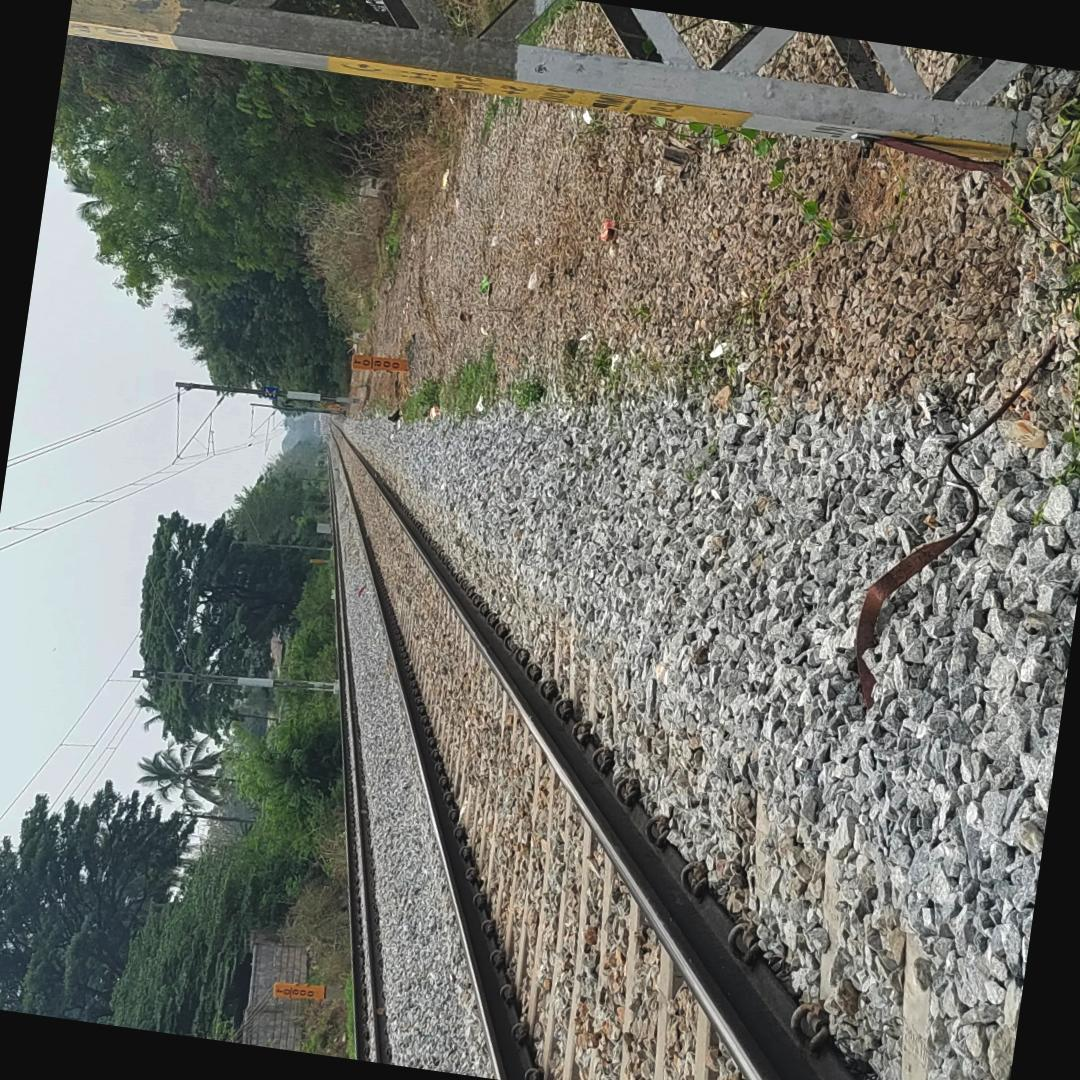track: (322, 417, 977, 1080)
